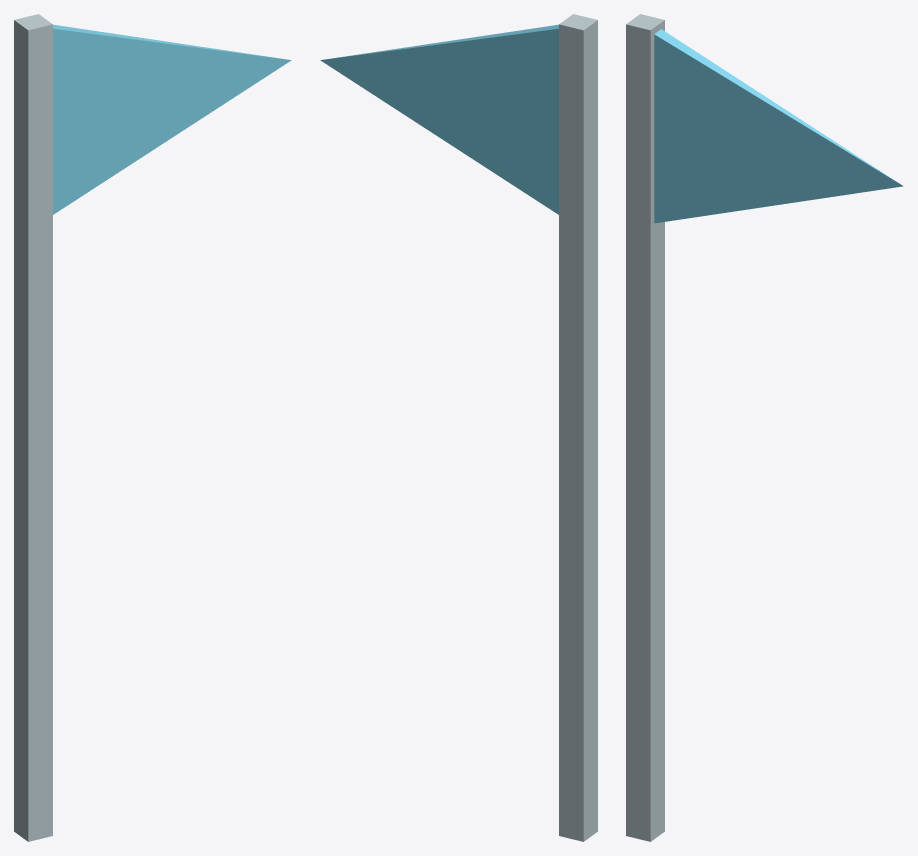
The model's file is flag_blue.glb.
3 renders of one model, left to right at view 1: azimuth 30°, elevation 25°; view 2: azimuth 150°, elevation 25°; view 3: azimuth 330°, elevation 25°, orthographic.
Visible parts, largest first — view 1: flag_blue; view 2: flag_blue; view 3: flag_blue.
Part boxes in pixels (bbox=[...]): flag_blue: bbox=[14, 14, 291, 841]; flag_blue: bbox=[320, 14, 597, 841]; flag_blue: bbox=[626, 14, 903, 841].
Size of the model in its own units: 0.3666 by 1.05 by 0.0333.
